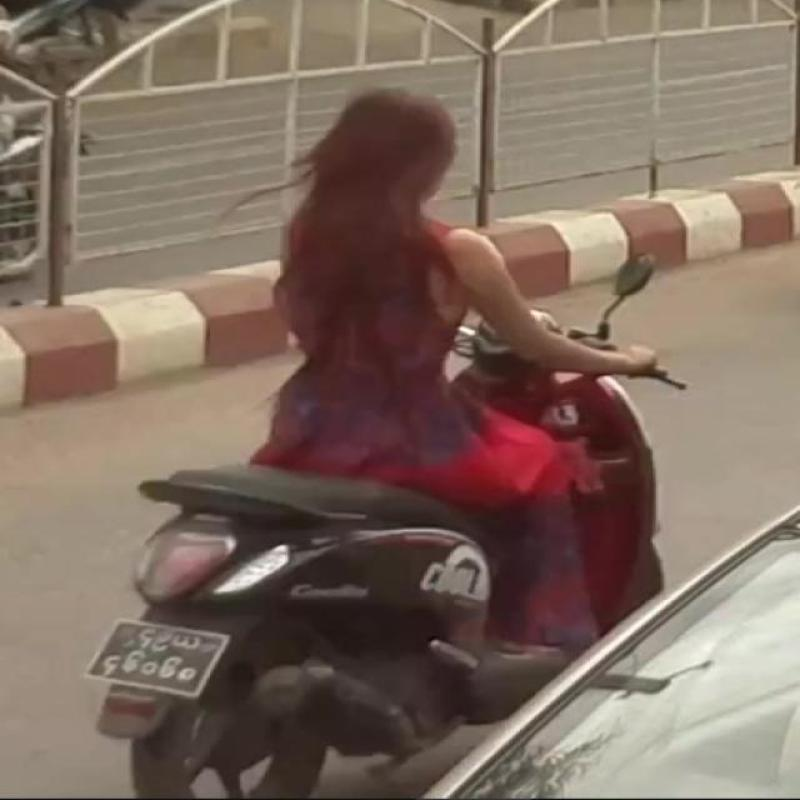nohelmet: (328, 70, 503, 244), (104, 606, 244, 726)
